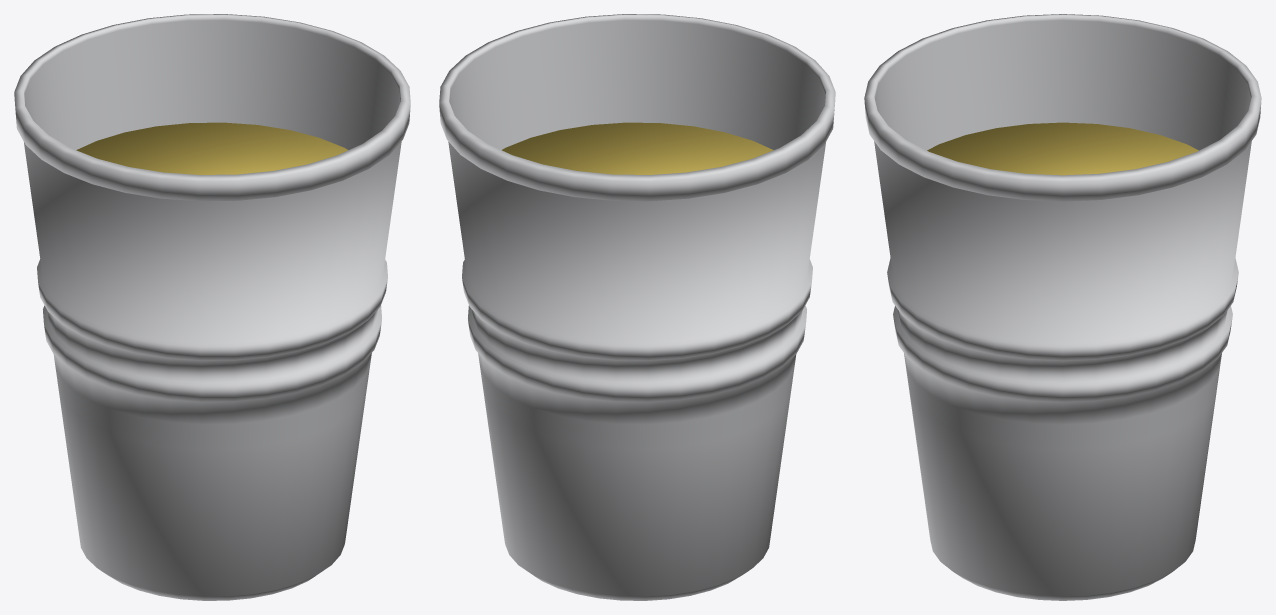
File: cups.fbx
3 renders of one model, left to right at view 1: azimuth 30°, elevation 25°; view 2: azimuth 150°, elevation 25°; view 3: azimuth 270°, elevation 25°, orthographic.
Parts seen in each view (by area): view 1: Cylinder; view 2: Cylinder; view 3: Cylinder.
Boxes of the visible parts, box(x1,y1,x2,y2) form: Cylinder: box(14, 14, 410, 600); Cylinder: box(439, 14, 835, 600); Cylinder: box(864, 14, 1261, 600).
Size of the model in its own units: 473 by 608 by 473.
